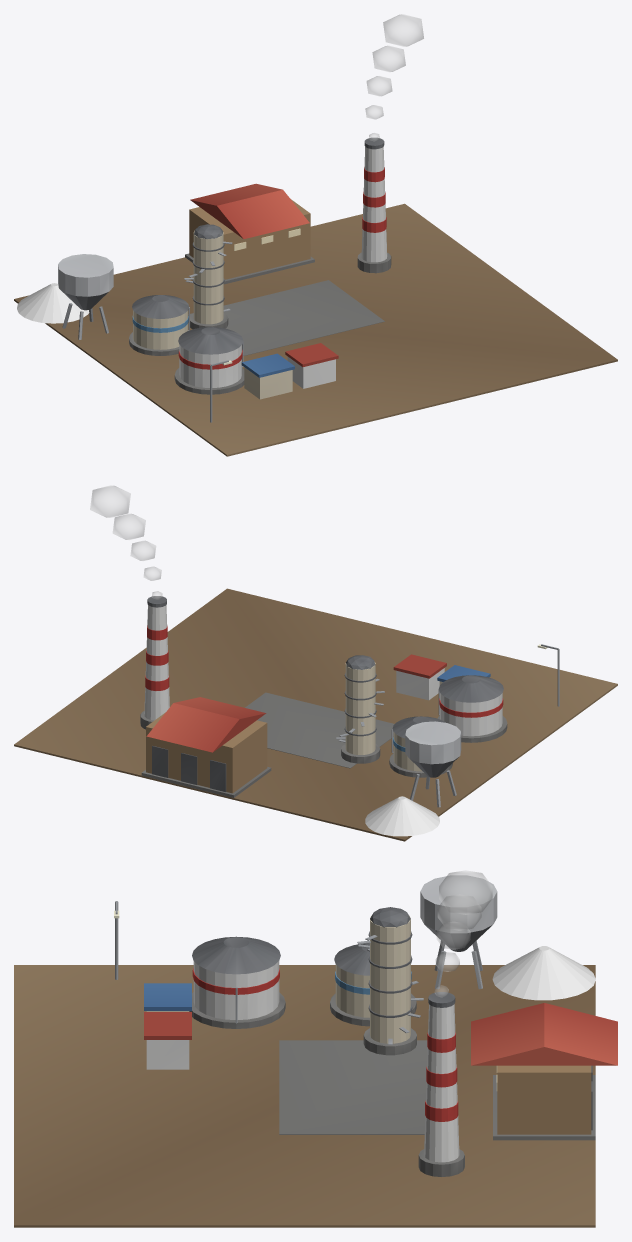
File: Refinery_P1.fbx
The picture shows the model from 3 angles, top to bottom: view 1: azimuth 30°, elevation 25°; view 2: azimuth 150°, elevation 25°; view 3: azimuth 270°, elevation 25°; orthographic projection. The views are drawn at different scales.
Visible parts, largest first — view 1: Refinery.Pad, Refinery.Hall, Refinery.Tank0, Refinery.Utils, Refinery.Col0, Refinery.Stack0, Refinery.Tank1, Refinery.Intake, Refinery.Smoke0, Refinery.CoalIn; view 2: Refinery.Pad, Refinery.Hall, Refinery.Tank0, Refinery.Col0, Refinery.Intake, Refinery.Stack0, Refinery.Smoke0, Refinery.Utils, Refinery.CoalIn, Refinery.Tank1; view 3: Refinery.Pad, Refinery.Hall, Refinery.Tank0, Refinery.Col0, Refinery.Stack0, Refinery.Intake, Refinery.Utils, Refinery.CoalIn, Refinery.Smoke0, Refinery.Tank1.
Part boxes in pixels (x1=…): Refinery.Pad: x1=14, y1=203, x2=617, y2=456; Refinery.Hall: x1=185, y1=183, x2=314, y2=284; Refinery.Tank0: x1=174, y1=327, x2=244, y2=394; Refinery.Utils: x1=241, y1=343, x2=338, y2=399; Refinery.Col0: x1=184, y1=224, x2=232, y2=329; Refinery.Stack0: x1=357, y1=137, x2=391, y2=273; Refinery.Tank1: x1=129, y1=295, x2=189, y2=355; Refinery.Intake: x1=58, y1=254, x2=113, y2=339; Refinery.Smoke0: x1=365, y1=14, x2=423, y2=141; Refinery.CoalIn: x1=17, y1=283, x2=89, y2=323; Refinery.Pad: x1=14, y1=588, x2=617, y2=841; Refinery.Hall: x1=141, y1=697, x2=271, y2=797; Refinery.Tank0: x1=437, y1=675, x2=507, y2=742; Refinery.Col0: x1=336, y1=655, x2=384, y2=763; Refinery.Intake: x1=405, y1=721, x2=461, y2=807; Refinery.Stack0: x1=140, y1=596, x2=169, y2=729; Refinery.Smoke0: x1=90, y1=485, x2=162, y2=599; Refinery.Utils: x1=393, y1=654, x2=490, y2=700; Refinery.CoalIn: x1=365, y1=796, x2=439, y2=836; Refinery.Tank1: x1=389, y1=716, x2=452, y2=777; Refinery.Pad: x1=14, y1=965, x2=595, y2=1227; Refinery.Hall: x1=471, y1=1003, x2=617, y2=1140; Refinery.Tank0: x1=189, y1=936, x2=285, y2=1028; Refinery.Col0: x1=357, y1=907, x2=423, y2=1055; Refinery.Stack0: x1=418, y1=992, x2=464, y2=1176; Refinery.Intake: x1=420, y1=875, x2=497, y2=989; Refinery.Utils: x1=144, y1=983, x2=191, y2=1069; Refinery.CoalIn: x1=492, y1=946, x2=595, y2=1000; Refinery.Smoke0: x1=435, y1=870, x2=492, y2=996; Refinery.Tank1: x1=330, y1=943, x2=416, y2=1026.
Bounding box in the file's own units: 7406 × 4189 × 7060.
